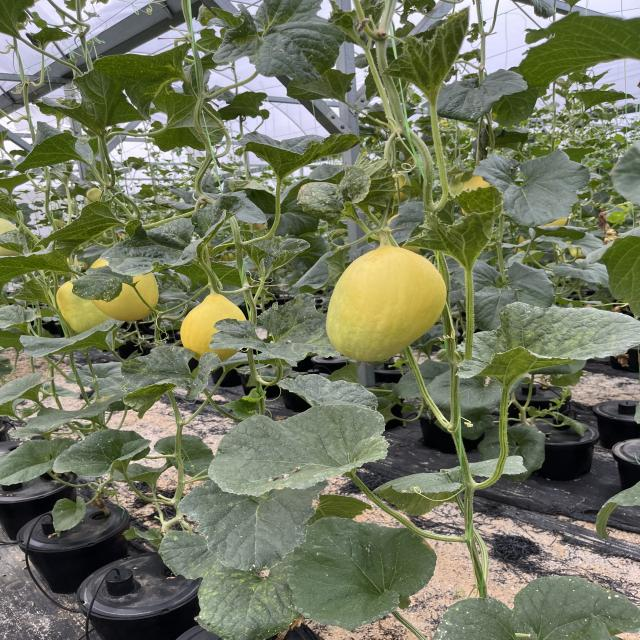CMV: (380, 10, 476, 102), (209, 296, 329, 364), (404, 187, 509, 262), (113, 347, 219, 414), (238, 132, 360, 177)
SLCV: (95, 196, 244, 279), (287, 166, 375, 225), (432, 70, 529, 122), (235, 227, 319, 272)
downy mildew: (209, 406, 388, 496), (454, 303, 640, 387), (172, 488, 324, 572), (196, 551, 306, 639), (239, 0, 350, 86), (107, 348, 225, 418), (94, 39, 200, 110), (50, 199, 118, 254)
healthy: (284, 519, 441, 631), (473, 149, 593, 228), (53, 429, 150, 478), (13, 125, 80, 175)
powdery mildew: (178, 487, 312, 572), (66, 267, 128, 304)
